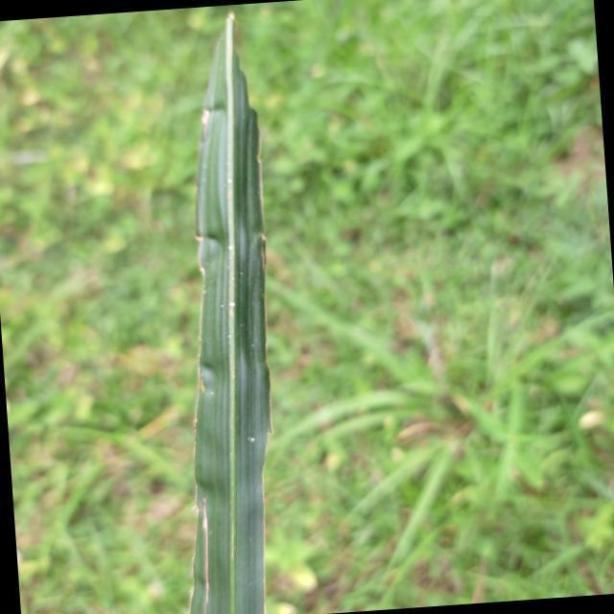Boron: (191, 7, 295, 614)
